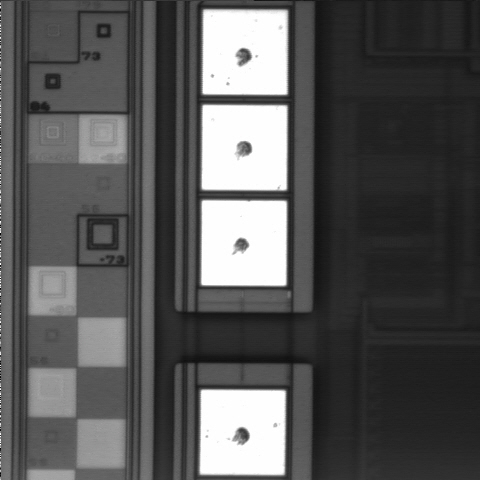pad: (201, 200, 287, 286), (202, 105, 287, 190), (200, 390, 285, 475), (203, 10, 287, 95)
